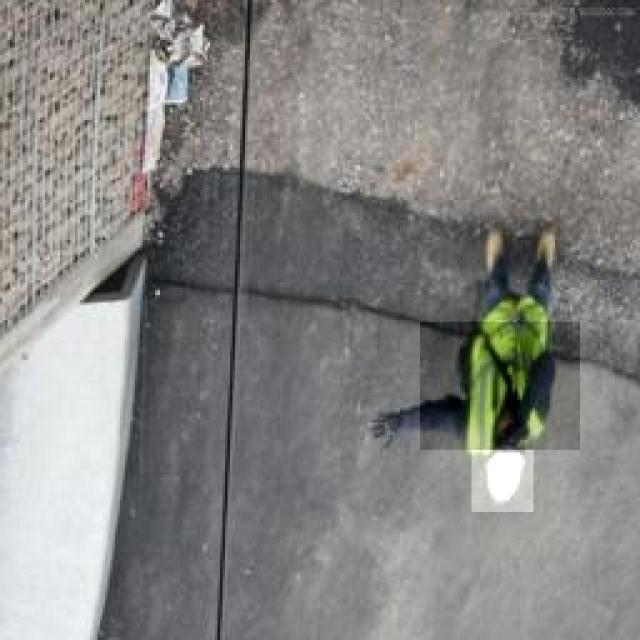Helmet: (472, 418, 534, 512)
Safety Vest: (420, 322, 580, 450)
